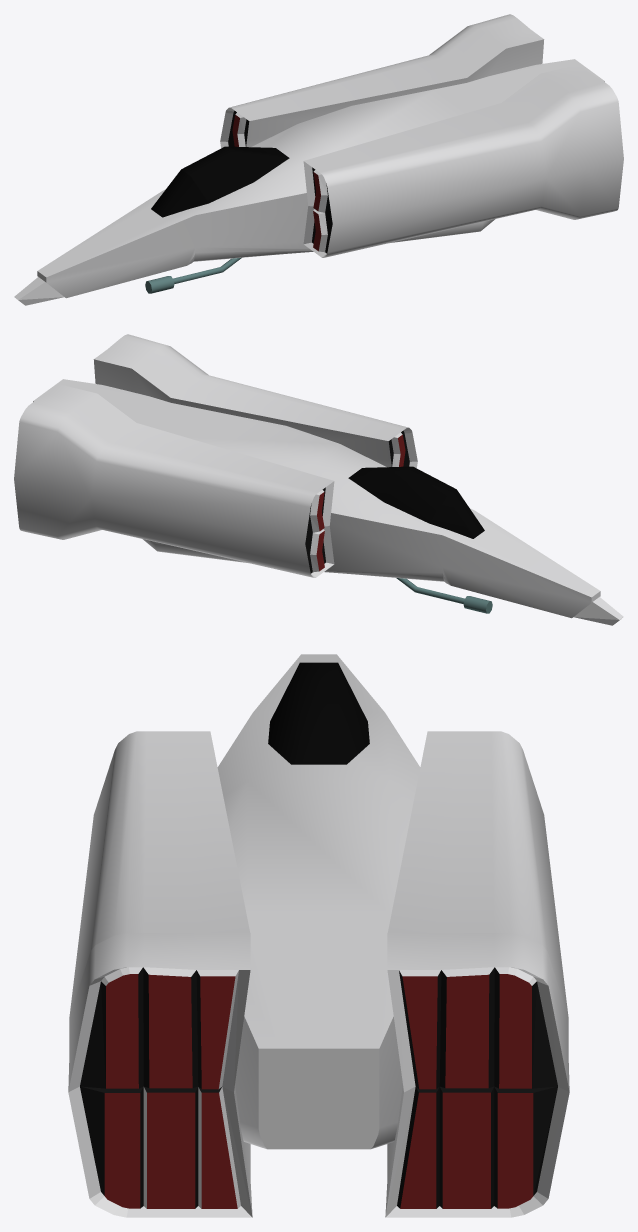
The model's file is Caza UNE.FBX.
3 views of the same model, one above another, from view 1: azimuth 30°, elevation 25°; view 2: azimuth 150°, elevation 25°; view 3: azimuth 270°, elevation 25° (orthographic). The views are drawn at different scales.
Visible parts, largest first — view 1: Box002, Box001, Box003, Box004, Cylinder001; view 2: Box003, Box001, Box002, Box004, Cylinder003; view 3: Box002, Box003, Box001, Box004.
Part boxes in pixels (x1,y1,x2,y2): Box002: [303, 64, 623, 257]; Box001: [14, 59, 604, 305]; Box003: [220, 14, 544, 148]; Box004: [151, 146, 289, 217]; Cylinder001: [173, 257, 241, 283]; Box003: [14, 384, 334, 577]; Box001: [33, 379, 623, 625]; Box002: [93, 334, 417, 468]; Box004: [348, 466, 484, 538]; Cylinder003: [396, 578, 464, 603]; Box002: [68, 731, 252, 1217]; Box003: [385, 731, 569, 1217]; Box001: [217, 654, 420, 1149]; Box004: [268, 662, 369, 764].
Size of the model in its own units: 334 by 74.87 by 126.
